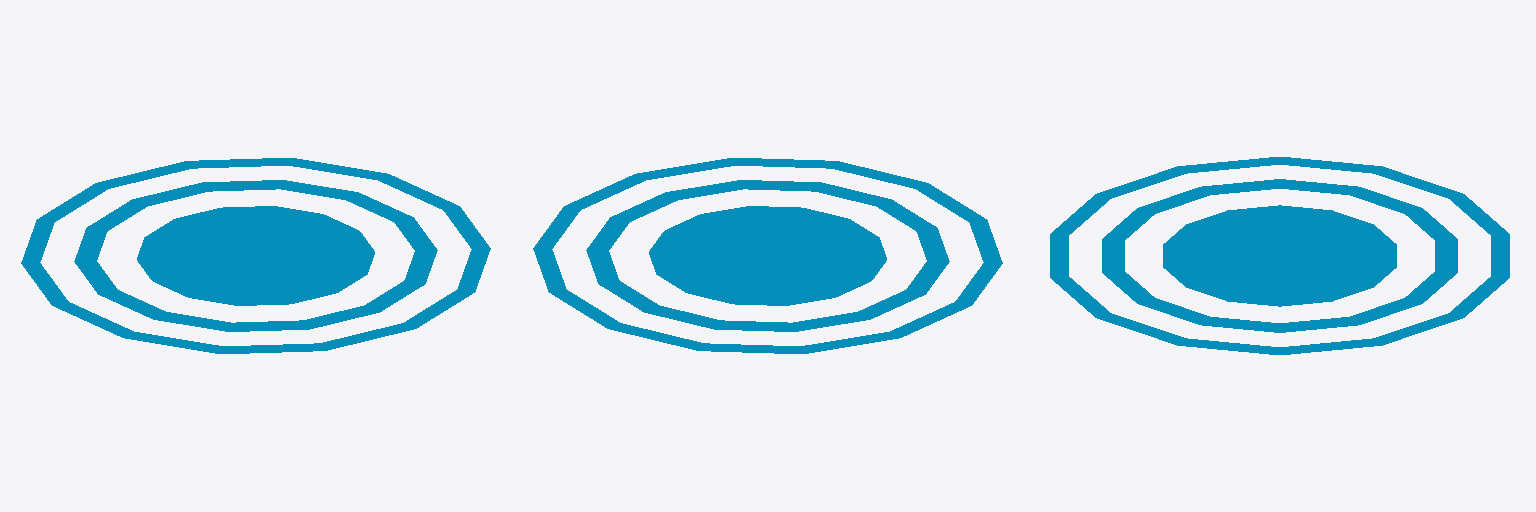
File: marker_waves.obj
3 renders of one model, left to right at view 1: azimuth 30°, elevation 25°; view 2: azimuth 150°, elevation 25°; view 3: azimuth 270°, elevation 25°, orthographic.
Visible parts, largest first — view 1: pCylinder4; view 2: pCylinder4; view 3: pCylinder4.
Part boxes in pixels (x1,y1,x2,y2): pCylinder4: (21,158,490,353); pCylinder4: (533,158,1002,353); pCylinder4: (1050,157,1509,354).
Size of the model in its own units: 0.1052 by 0 by 0.1026.